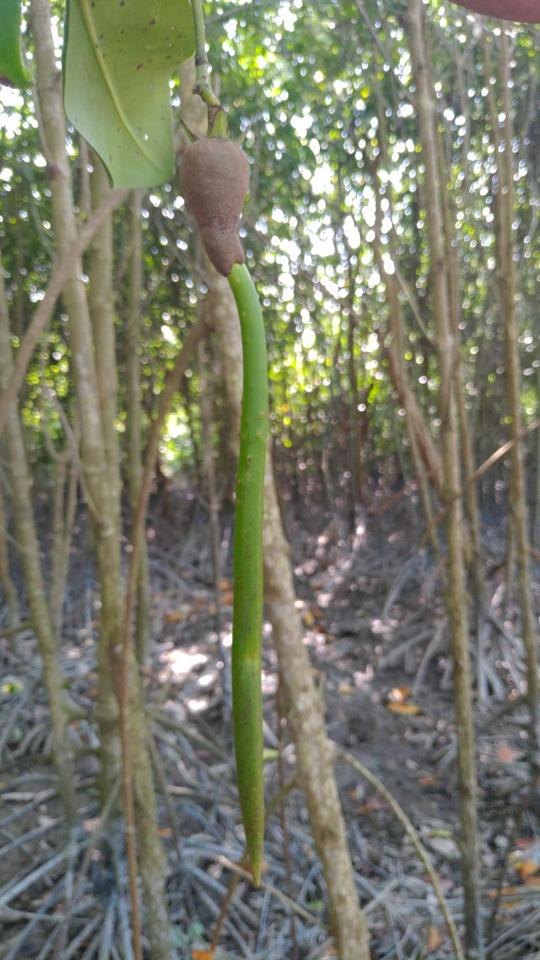mentah: (154, 90, 291, 906)
